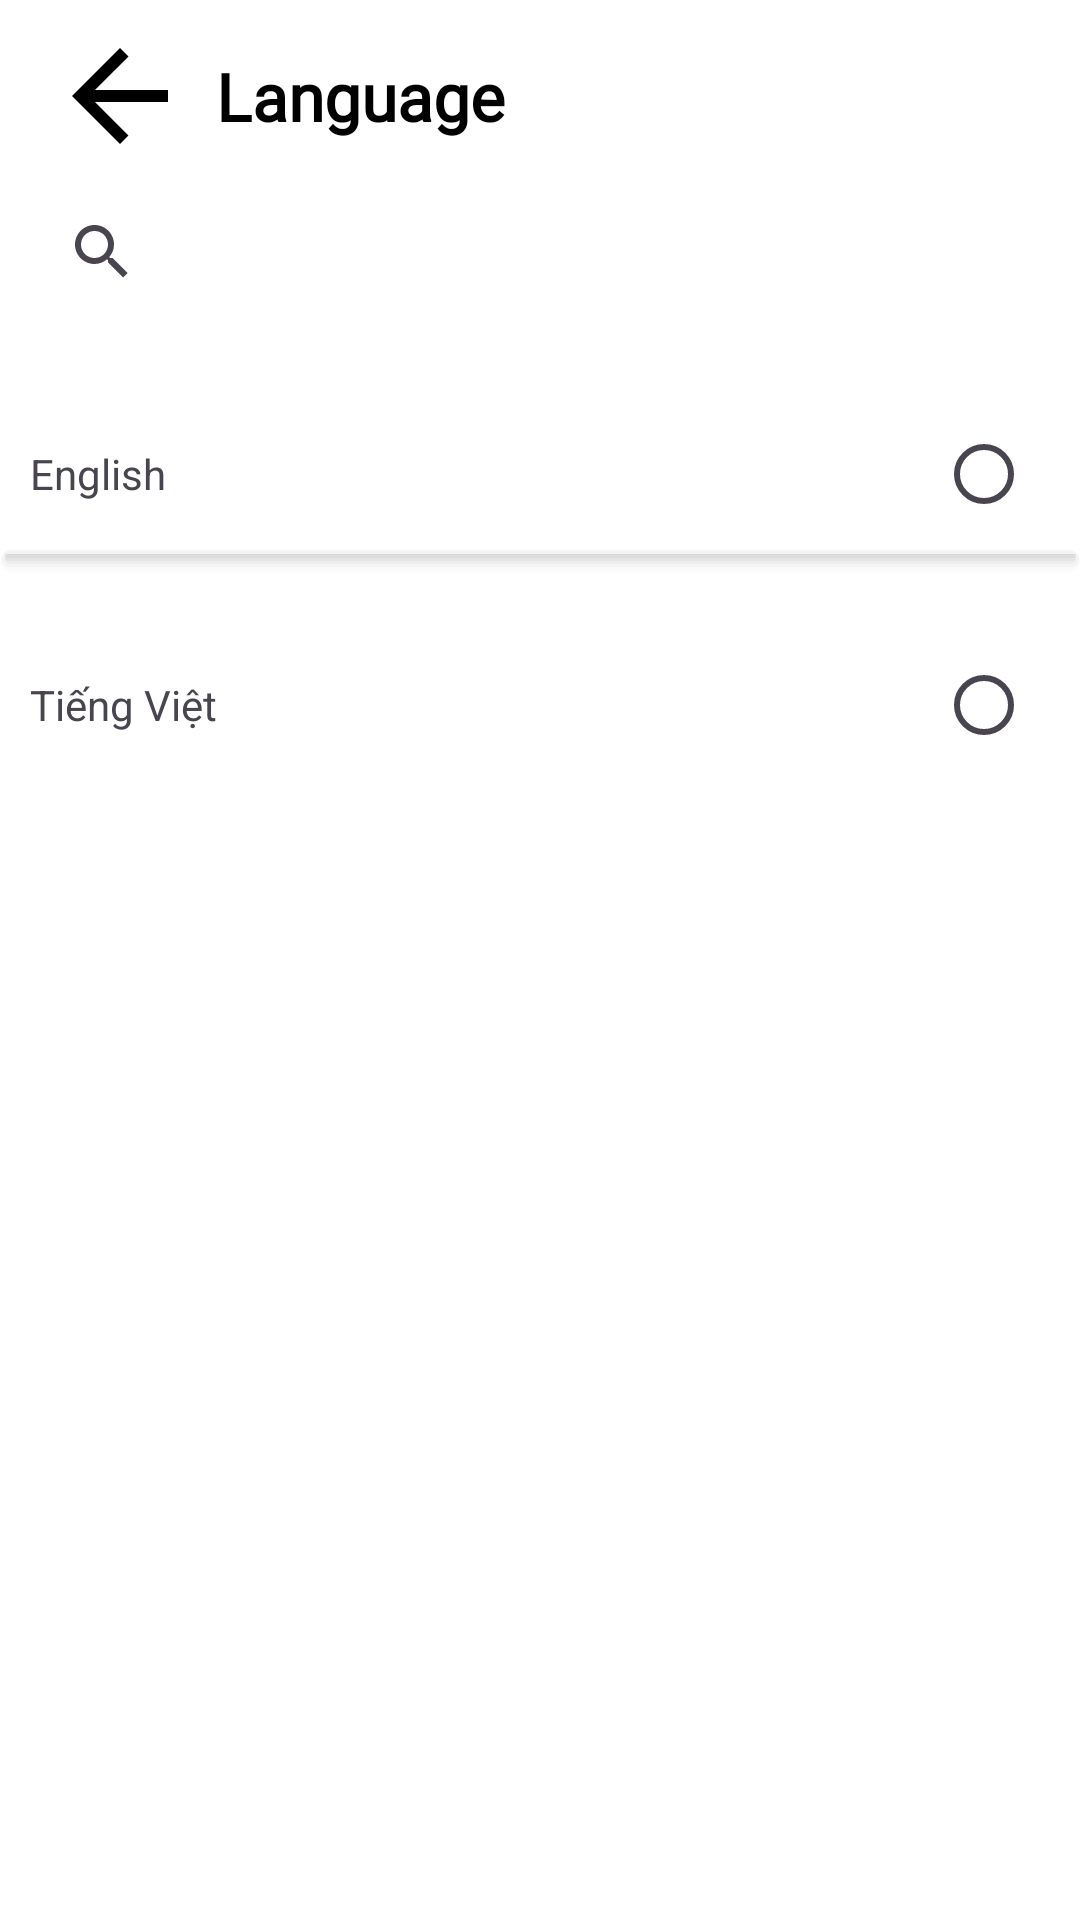

Icon bounding boxes for this 1080×1920 phone screenshot, format (x1, y1, x2, y2):
back arrow: (72, 48, 168, 144)
